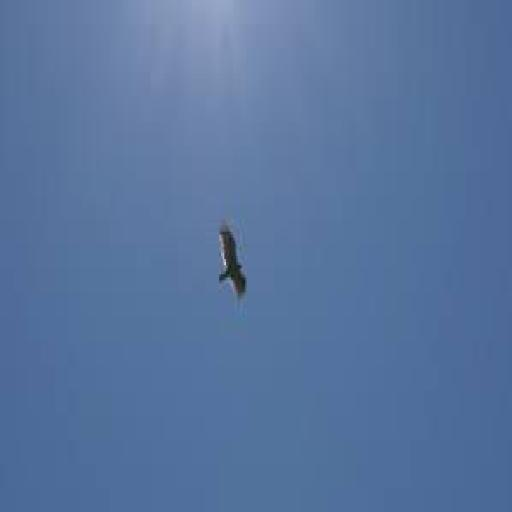birds: (207, 205, 255, 293)
